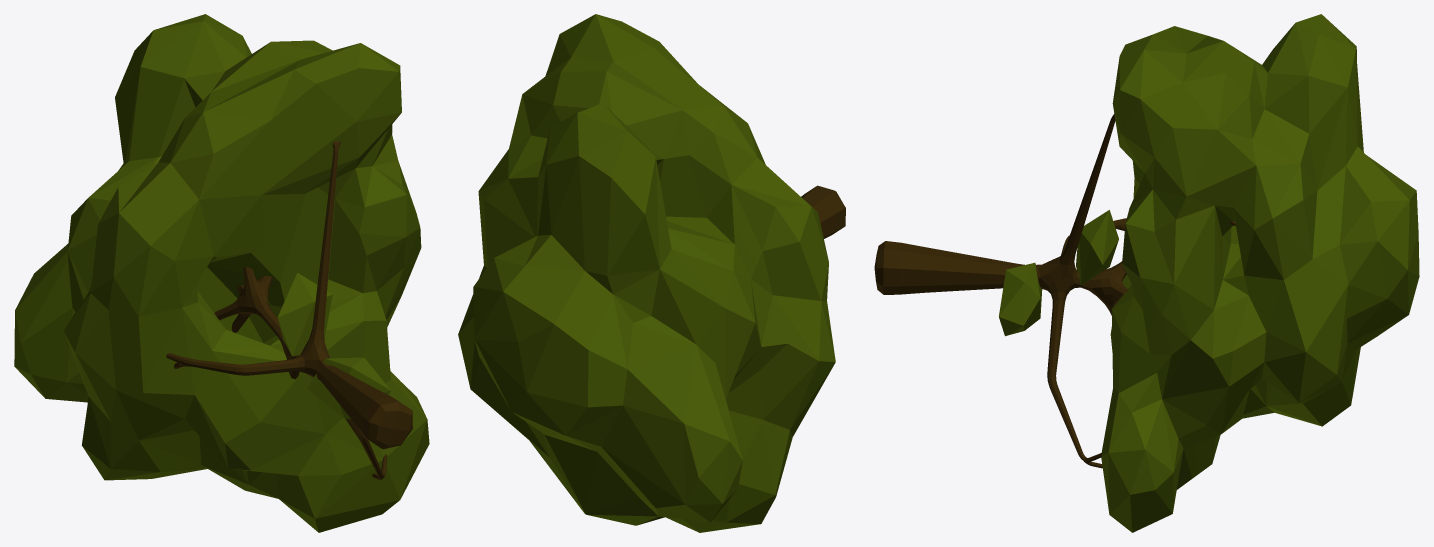
File: TreeRescaledVariant290degree.fbx
3 views of the same model, side by side, from view 1: azimuth 30°, elevation 25°; view 2: azimuth 150°, elevation 25°; view 3: azimuth 270°, elevation 25° (orthographic).
Visible parts, largest first — view 1: Tree; view 2: Tree; view 3: Tree.
Boxes of the visible parts, <box> form: Tree: <box>14,14,429,532</box>; Tree: <box>458,14,845,532</box>; Tree: <box>874,14,1419,532</box>.
Size of the model in its own units: 1970 by 1399 by 1916.
